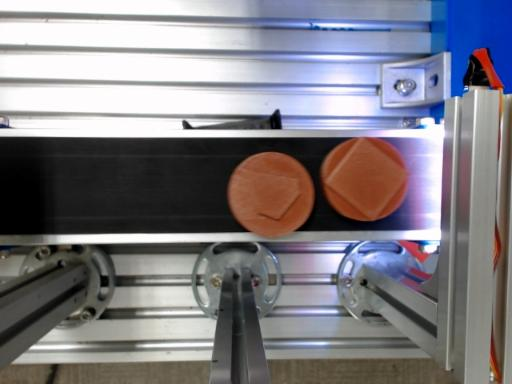Brown_Waper: (227, 152, 314, 237), (321, 138, 408, 221)
